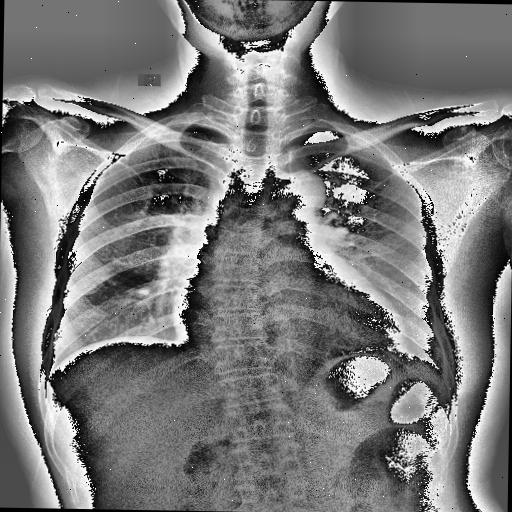0- Aortic enlargement: (270, 167, 328, 228), (268, 170, 328, 214), (276, 170, 326, 213)
3- Cardiomegaly: (175, 280, 405, 352), (170, 294, 408, 360), (168, 299, 410, 351)
